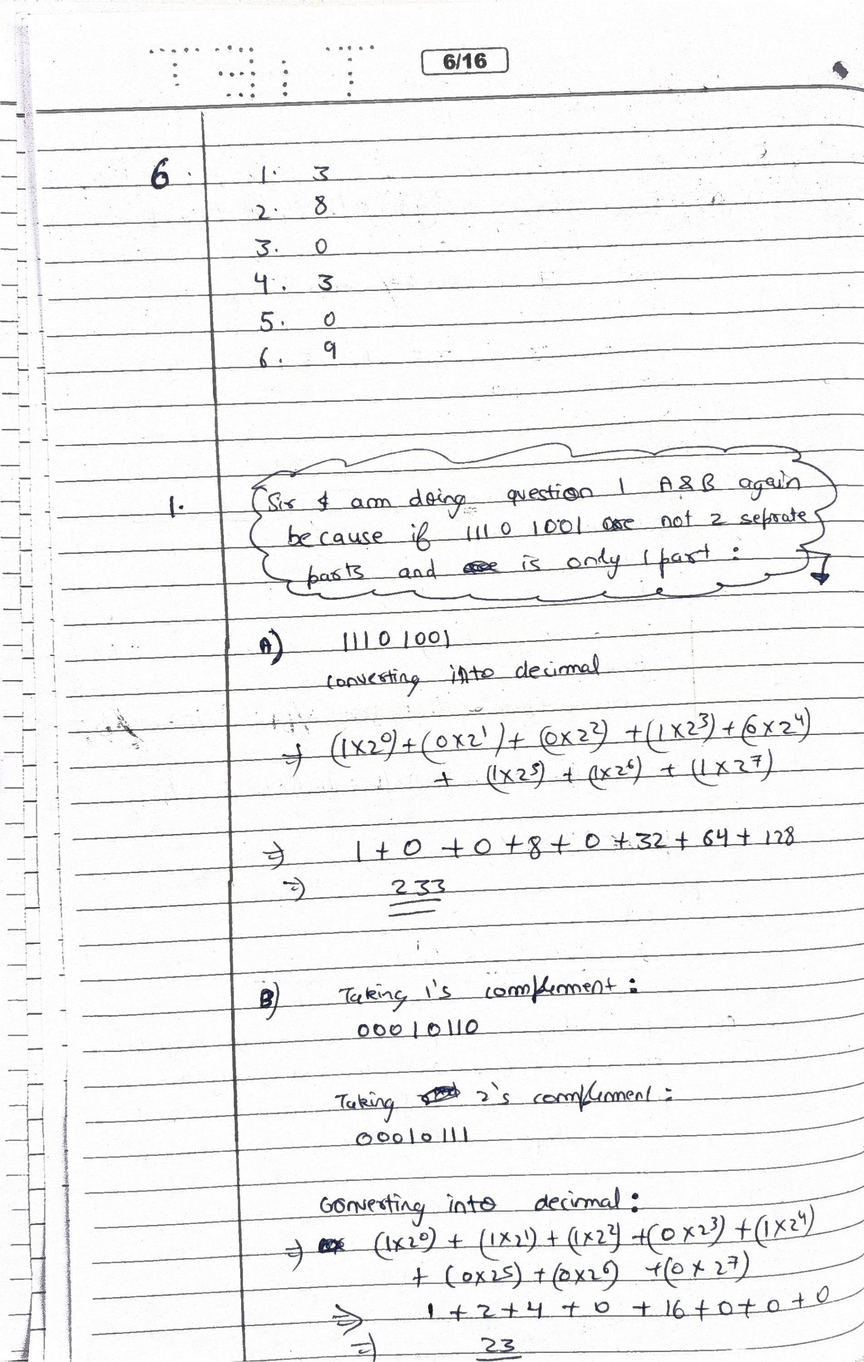cuttings: (416, 1080, 461, 1106), (462, 560, 501, 575), (317, 1237, 346, 1256)
